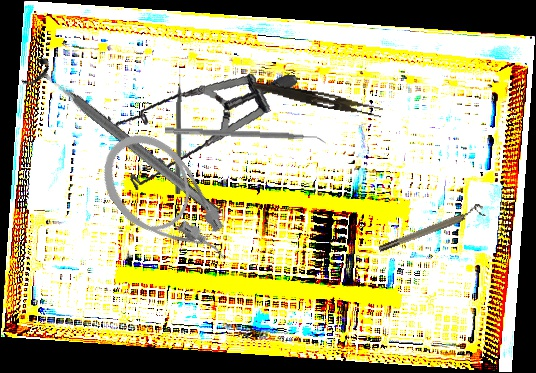Cannula: (85, 117, 246, 291)
Dressing Forceps: (251, 80, 384, 118)
Fixation Ring: (20, 53, 229, 229), (375, 202, 487, 254)
Pusher: (174, 66, 185, 195)
Spatula Surgical: (164, 127, 327, 146)
Speculum: (97, 47, 299, 213)
